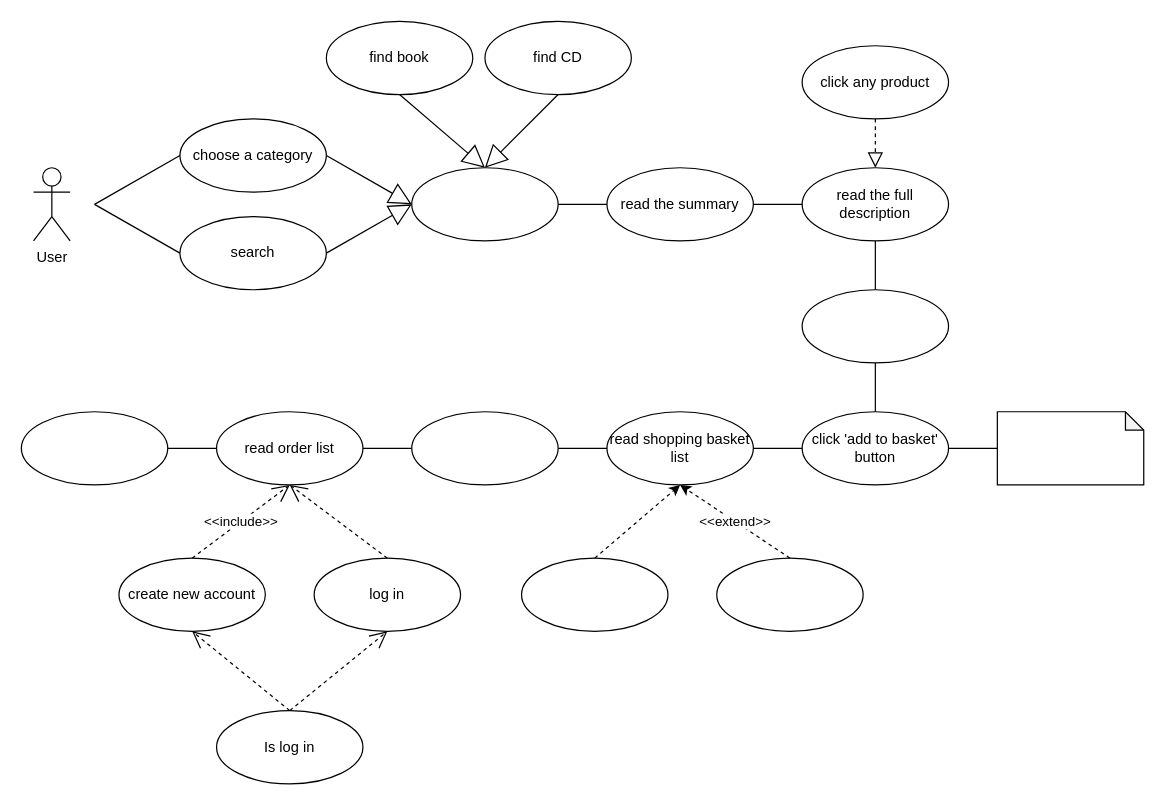
Some shapes in this 1165 by 805 pixel diagram are drawn without their labels. The shapes that lost their labels are listed below. From the top down, each one's centre as x and y in pixels, then its label:
point 484,204: find product
point 875,326: click any summery
point 94,448: confirm order
point 484,448: Proceed to checkout
point 1070,448: add product to basket
point 594,594: Remove an item
point 789,594: Change an item
